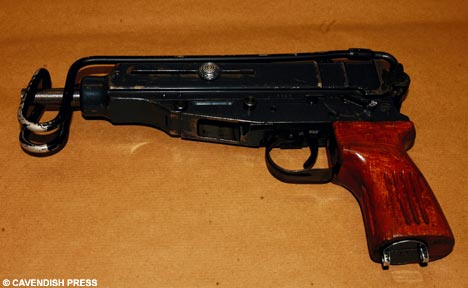pistol: (25, 38, 457, 288)
